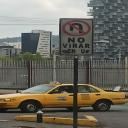NoVirarU: (56, 16, 96, 38)
